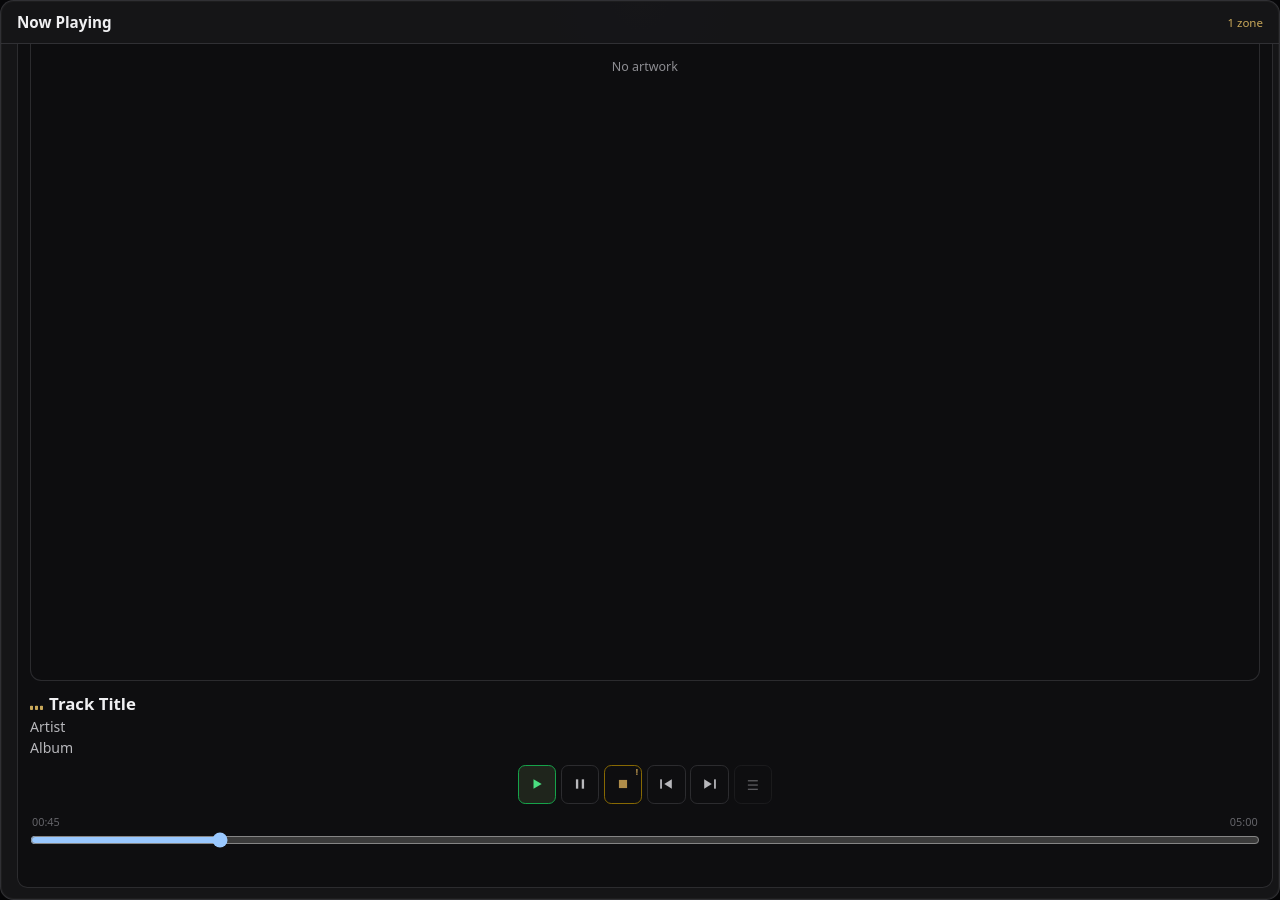
Test: ZoneStatusPanel — three-state stop button › waiting-state click immediately switches the button to a verifying affordance
(page scrolled)
Click the button named "Verify stop marker availability" at (623, 784), box left=604, top=765, right=642, bottom=804
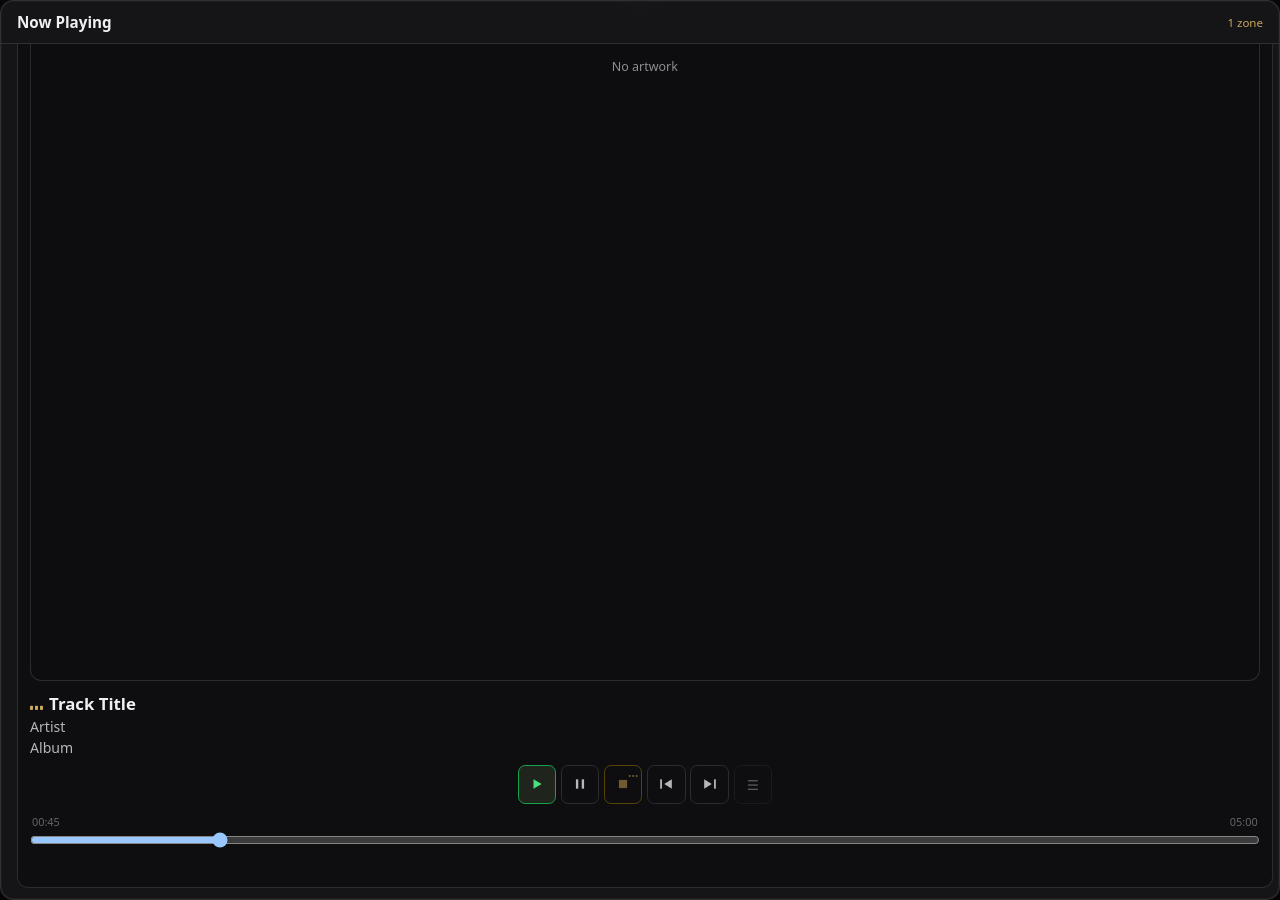
Check: the button named "Checking for stop marker" is disabled, box left=604, top=765, right=642, bottom=804
